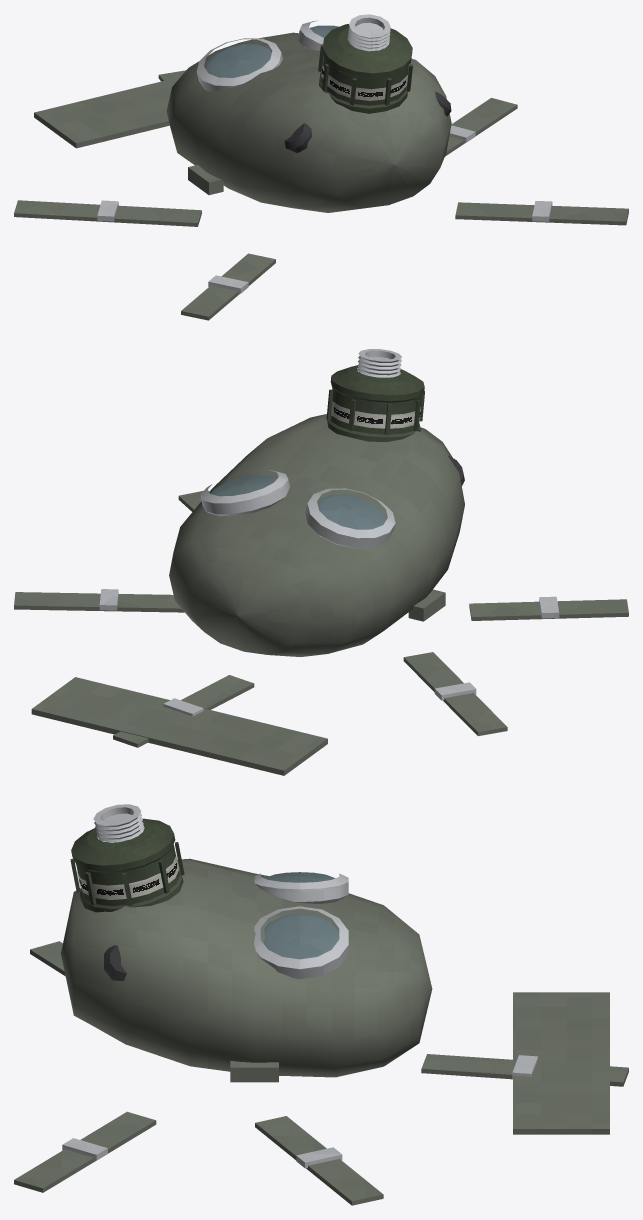
File: item_gas_mask.glb
3 views of the same model, one above another, from view 1: azimuth 30°, elevation 25°; view 2: azimuth 150°, elevation 25°; view 3: azimuth 270°, elevation 25° (orthographic). The views are drawn at different scales.
Parts seen in each view (by area): view 1: mask; view 2: mask; view 3: mask.
Boxes of the visible parts, left/top/right/bottom form: mask: left=14, top=14, right=628, bottom=320; mask: left=14, top=349, right=628, bottom=775; mask: left=14, top=804, right=628, bottom=1205.
Bounding box in the file's own units: 0.4018 × 0.1744 × 0.3807.
6 materials, 6 textured.
